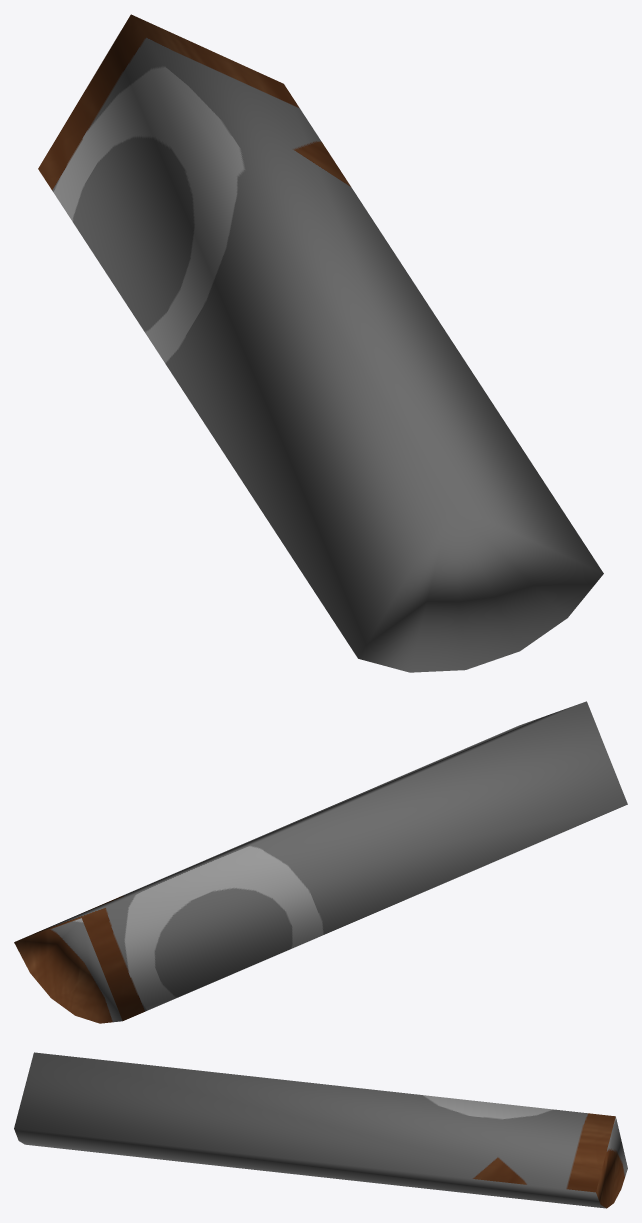
The model's file is Lenha.fbx.
3 renders of one model, top to bottom at view 1: azimuth 30°, elevation 25°; view 2: azimuth 150°, elevation 25°; view 3: azimuth 270°, elevation 25°, orthographic. The views are drawn at different scales.
Parts seen in each view (by area): view 1: pCylinder60; view 2: pCylinder60; view 3: pCylinder60.
Part boxes in pixels (<box>): pCylinder60: <box>38,14,603,672</box>; pCylinder60: <box>14,701,627,1023</box>; pCylinder60: <box>14,1052,627,1208</box>.
Bounding box in the file's own units: 37.05 × 12.48 × 82.84.
